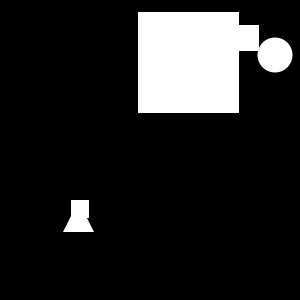circle: (138, 12, 239, 113), (233, 25, 259, 51), (71, 200, 89, 218)
rectangle: (258, 37, 292, 72)
triangle: (63, 201, 94, 232)
